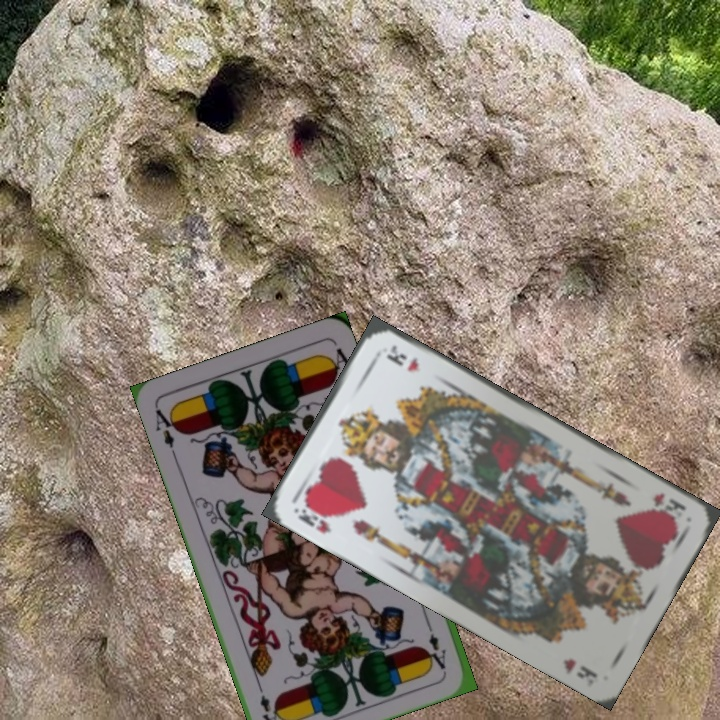EA: (151, 403, 182, 460), (421, 615, 449, 673)
HK: (291, 497, 335, 536), (648, 489, 689, 526)
